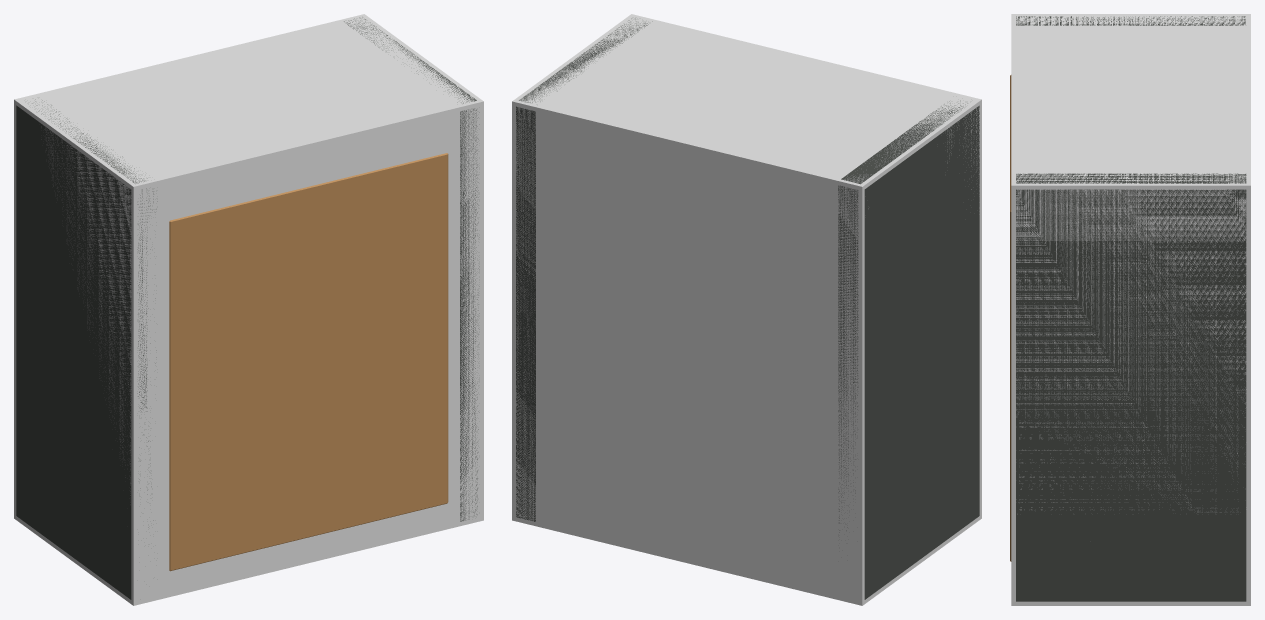
File: restroom-stall_commercial.glb
3 views of the same model, side by side, from view 1: azimuth 30°, elevation 25°; view 2: azimuth 150°, elevation 25°; view 3: azimuth 270°, elevation 25° (orthographic).
Visible parts, largest first — view 1: COL_restroom-stall, MESH_StallDoor, MESH_Partition, MESH_Partition.001; view 2: COL_restroom-stall, MESH_Partition, MESH_Partition.001; view 3: MESH_Partition.001, COL_restroom-stall, MESH_Partition, MESH_StallDoor.
Part boxes in pixels (left/top/right/bottom): COL_restroom-stall: left=14, top=14, right=483, bottom=605; MESH_StallDoor: left=169, top=153, right=448, bottom=571; MESH_Partition: left=16, top=99, right=157, bottom=599; MESH_Partition.001: left=344, top=17, right=479, bottom=521; COL_restroom-stall: left=512, top=14, right=981, bottom=605; MESH_Partition: left=838, top=100, right=979, bottom=599; MESH_Partition.001: left=516, top=18, right=652, bottom=521; MESH_Partition.001: left=1016, top=173, right=1246, bottom=601; COL_restroom-stall: left=1011, top=14, right=1250, bottom=605; MESH_Partition: left=1016, top=16, right=1245, bottom=25; MESH_StallDoor: left=1010, top=75, right=1011, bottom=561.
Bounding box in the file's own units: 1.05 × 1.2 × 0.6231.
